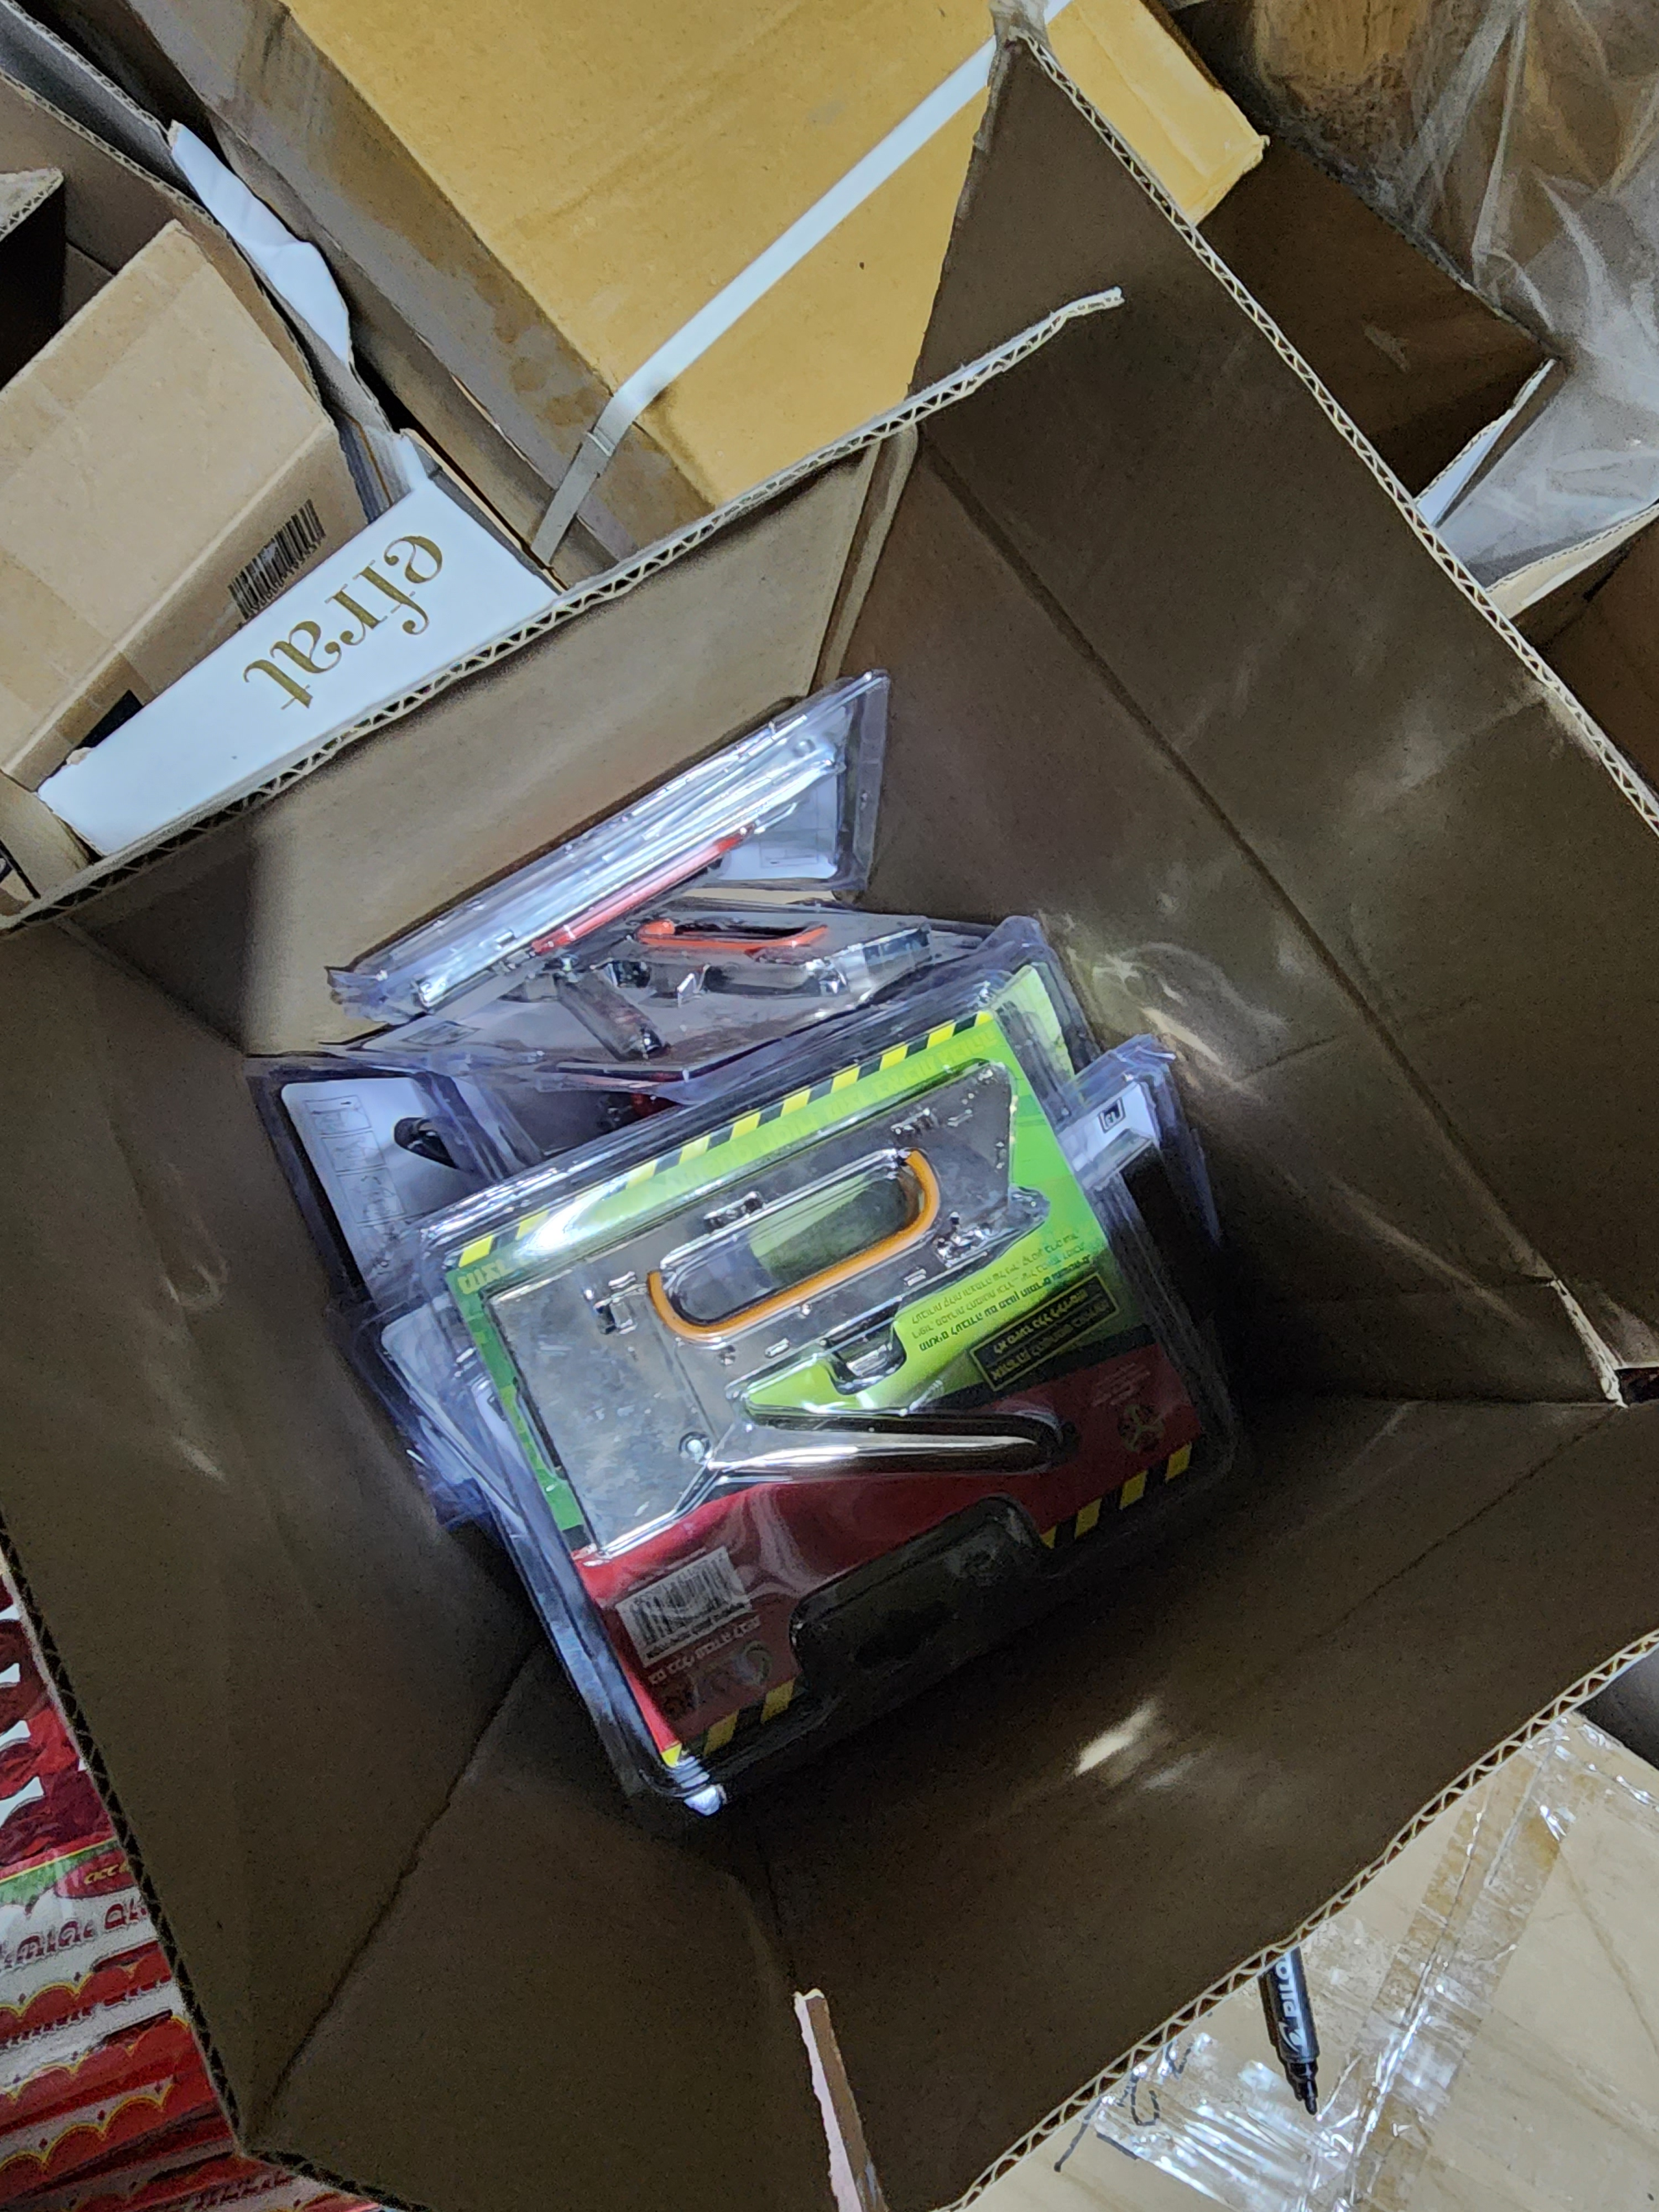other: (284, 894, 1300, 1752)
